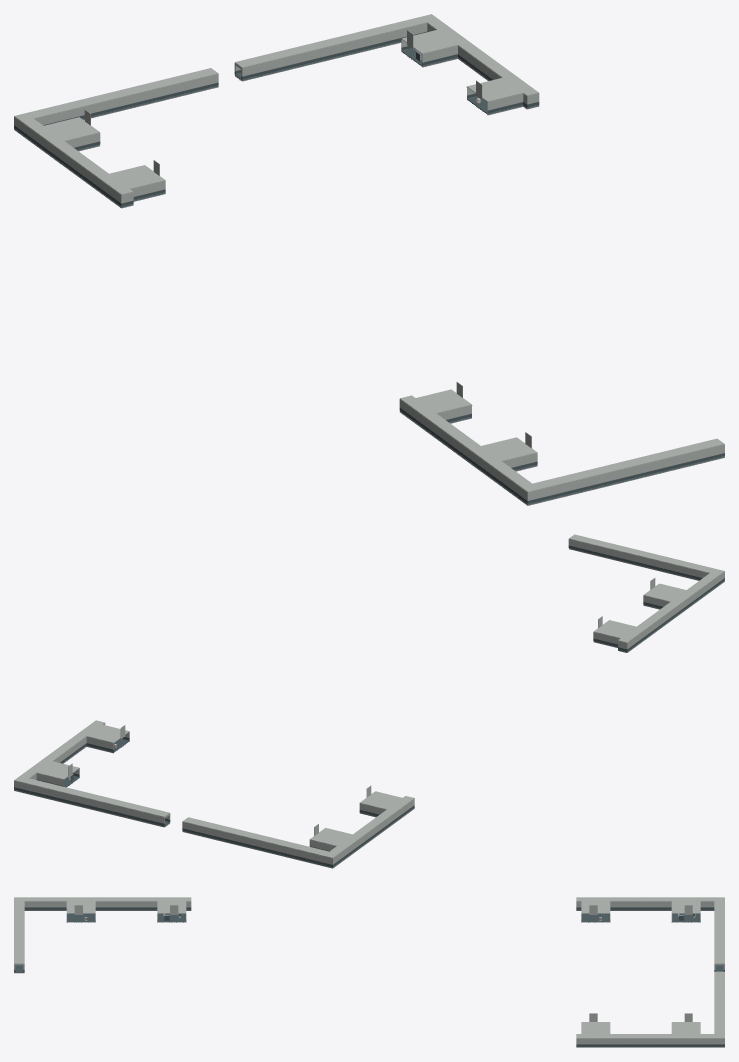
File: D10_CONNECTED_SERVICE_RECEIVERS_r006.glb
3 views of the same model, one above another, from view 1: azimuth 30°, elevation 25°; view 2: azimuth 150°, elevation 25°; view 3: azimuth 270°, elevation 25° (orthographic). The views are drawn at different scales.
Visible parts, largest first — view 1: D10_SERVICE_BATCH_033_03, D10_SERVICE_BATCH_007_01, D10_SERVICE_BATCH_020_02, D10_SERVICE_BATCH_018_02, D10_SERVICE_BATCH_031_03, D10_SERVICE_BATCH_005_01, D10_SERVICE_BATCH_034_03, D10_SERVICE_BATCH_021_02, D10_SERVICE_BATCH_008_01; view 2: D10_SERVICE_BATCH_033_03, D10_SERVICE_BATCH_007_01, D10_SERVICE_BATCH_020_02, D10_SERVICE_BATCH_018_02, D10_SERVICE_BATCH_031_03, D10_SERVICE_BATCH_005_01, D10_SERVICE_BATCH_034_03, D10_SERVICE_BATCH_008_01, D10_SERVICE_BATCH_021_02; view 3: D10_SERVICE_BATCH_020_02, D10_SERVICE_BATCH_033_03, D10_SERVICE_BATCH_007_01, D10_SERVICE_BATCH_031_03, D10_SERVICE_BATCH_005_01, D10_SERVICE_BATCH_018_02, D10_SERVICE_BATCH_021_02, D10_SERVICE_BATCH_034_03, D10_SERVICE_BATCH_008_01.
Part boxes in pixels (box(x1,y1,x2,y2)): D10_SERVICE_BATCH_033_03: box(399, 382, 724, 500); D10_SERVICE_BATCH_007_01: box(14, 68, 218, 203); D10_SERVICE_BATCH_020_02: box(234, 14, 539, 110); D10_SERVICE_BATCH_018_02: box(234, 32, 539, 114); D10_SERVICE_BATCH_031_03: box(399, 408, 724, 504); D10_SERVICE_BATCH_005_01: box(14, 82, 218, 207); D10_SERVICE_BATCH_034_03: box(399, 408, 724, 505); D10_SERVICE_BATCH_021_02: box(235, 31, 539, 115); D10_SERVICE_BATCH_008_01: box(14, 82, 218, 208); D10_SERVICE_BATCH_033_03: box(568, 534, 724, 649); D10_SERVICE_BATCH_007_01: box(182, 785, 414, 864); D10_SERVICE_BATCH_020_02: box(14, 720, 170, 823); D10_SERVICE_BATCH_018_02: box(14, 737, 170, 826); D10_SERVICE_BATCH_031_03: box(568, 545, 724, 652); D10_SERVICE_BATCH_005_01: box(182, 805, 414, 867); D10_SERVICE_BATCH_034_03: box(569, 545, 724, 652); D10_SERVICE_BATCH_008_01: box(182, 805, 414, 868); D10_SERVICE_BATCH_021_02: box(14, 737, 170, 827); D10_SERVICE_BATCH_020_02: box(576, 971, 724, 1044); D10_SERVICE_BATCH_033_03: box(14, 897, 191, 969); D10_SERVICE_BATCH_007_01: box(576, 897, 724, 969); D10_SERVICE_BATCH_031_03: box(14, 907, 191, 972); D10_SERVICE_BATCH_005_01: box(576, 907, 724, 971); D10_SERVICE_BATCH_018_02: box(576, 1044, 724, 1046); D10_SERVICE_BATCH_021_02: box(576, 1044, 724, 1047); D10_SERVICE_BATCH_034_03: box(14, 907, 191, 973); D10_SERVICE_BATCH_008_01: box(576, 907, 714, 922).
Bounding box in the file's own units: 140 × 8.43 × 298.
Materials: 13 (12 with a texture image).
